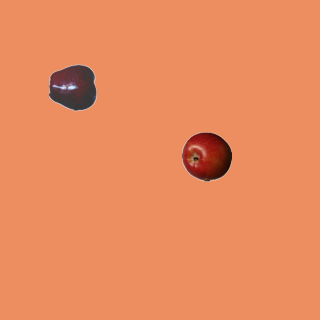Apple Braeburn: (181, 131, 231, 181)
Apple Red Delicious: (48, 62, 98, 112)
